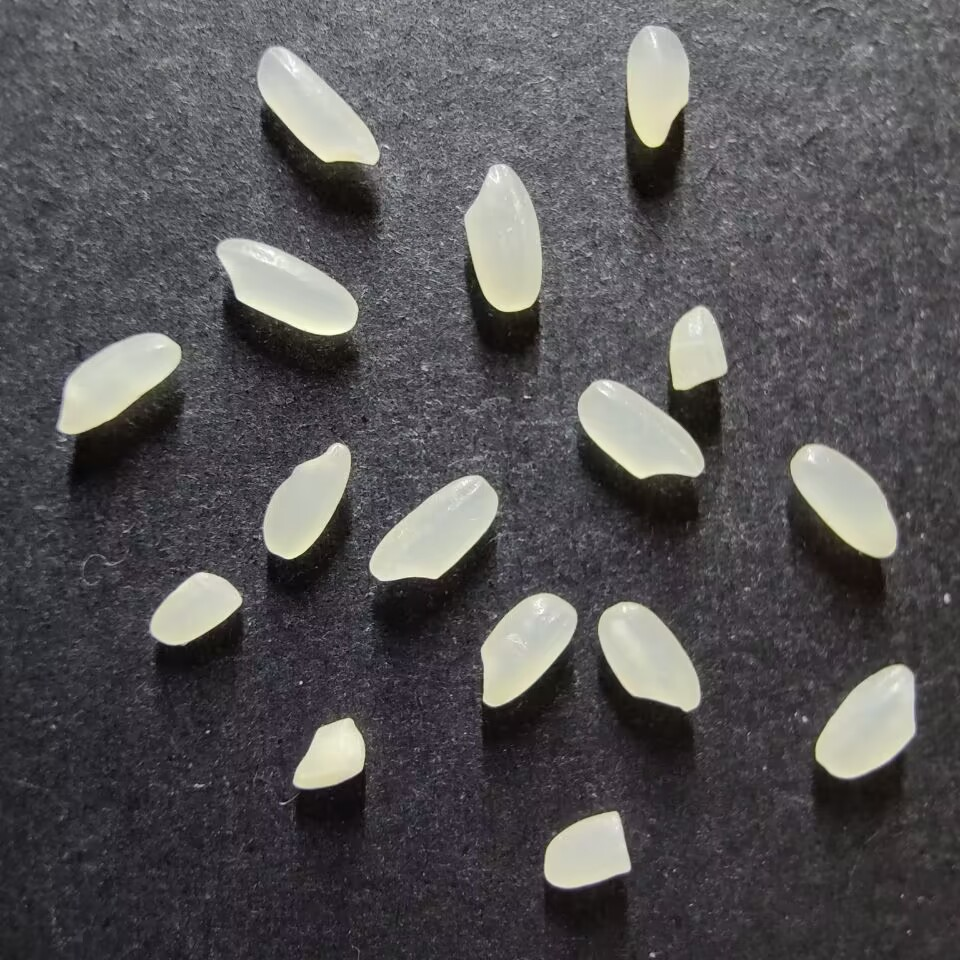broken: (149, 571, 241, 646), (543, 810, 631, 888), (291, 716, 365, 790), (668, 306, 727, 390)
rice: (256, 46, 381, 165), (215, 237, 358, 336), (368, 474, 498, 581), (56, 332, 182, 435), (576, 379, 704, 479), (789, 443, 898, 558), (464, 163, 542, 312), (597, 601, 701, 712), (814, 664, 915, 778), (479, 592, 577, 706), (262, 443, 350, 559), (625, 25, 690, 148)
